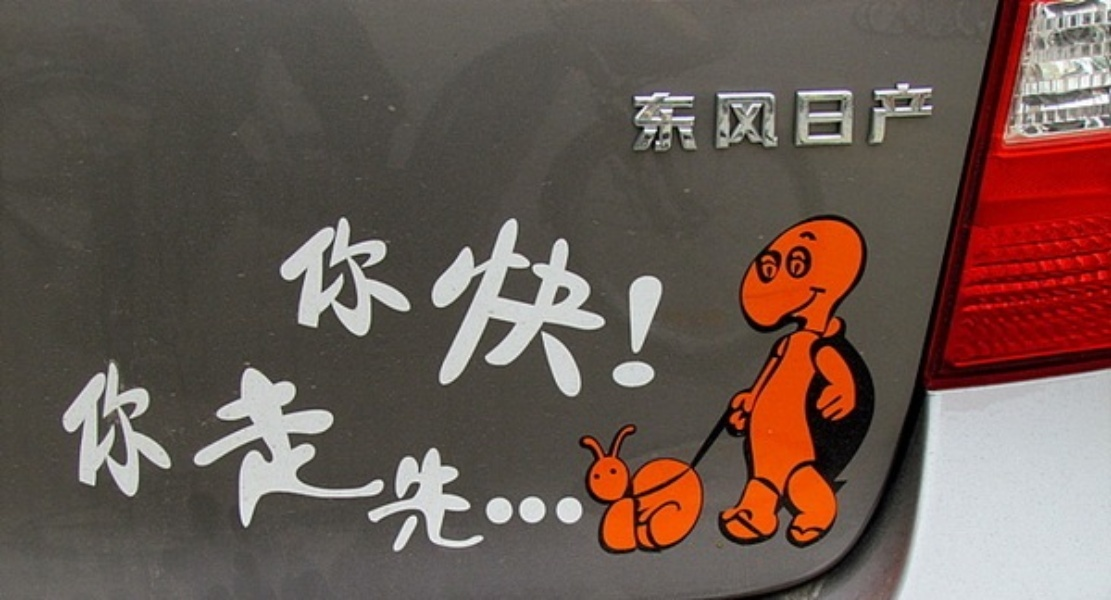text: (81, 341, 96, 582), (97, 341, 112, 582), (113, 341, 128, 582), (129, 341, 144, 582), (145, 341, 160, 582), (161, 341, 176, 582), (177, 341, 192, 582), (193, 341, 208, 582), (209, 341, 224, 582), (225, 341, 240, 582), (241, 341, 256, 582), (257, 341, 272, 582), (273, 341, 288, 582), (289, 341, 304, 582), (305, 341, 320, 582), (321, 341, 336, 582), (337, 341, 352, 582), (353, 341, 368, 582), (369, 341, 384, 582), (385, 341, 400, 582), (401, 341, 416, 582), (417, 341, 432, 582), (433, 341, 448, 582), (449, 341, 464, 582), (465, 341, 480, 582), (481, 341, 496, 582), (497, 341, 512, 582), (513, 341, 528, 582), (529, 341, 544, 582), (545, 341, 560, 582), (561, 341, 576, 582), (289, 184, 304, 413), (305, 184, 320, 413), (321, 184, 336, 413), (337, 184, 352, 413), (353, 184, 368, 413), (369, 184, 384, 413), (385, 184, 400, 413), (401, 184, 416, 413), (417, 184, 432, 413), (433, 184, 448, 413), (449, 184, 464, 413), (465, 184, 480, 413), (481, 184, 496, 413), (497, 184, 512, 413), (513, 184, 528, 413), (529, 184, 544, 413), (545, 184, 560, 413), (561, 184, 576, 413), (577, 184, 592, 413), (593, 184, 608, 413), (609, 184, 624, 413), (625, 184, 640, 413), (641, 184, 656, 413), (657, 184, 672, 413), (67, 341, 80, 582), (577, 341, 584, 582), (673, 184, 678, 413), (641, 80, 656, 156), (657, 80, 672, 156), (673, 80, 688, 156), (689, 80, 704, 156), (705, 80, 720, 156), (721, 80, 736, 156), (737, 80, 752, 156), (753, 80, 768, 156), (769, 80, 784, 156), (785, 80, 800, 156), (801, 80, 816, 156), (817, 80, 832, 156), (833, 80, 848, 156), (849, 80, 864, 156), (865, 80, 880, 156), (881, 80, 896, 156), (897, 80, 912, 156), (913, 80, 928, 156), (929, 80, 939, 156), (632, 80, 640, 156)
